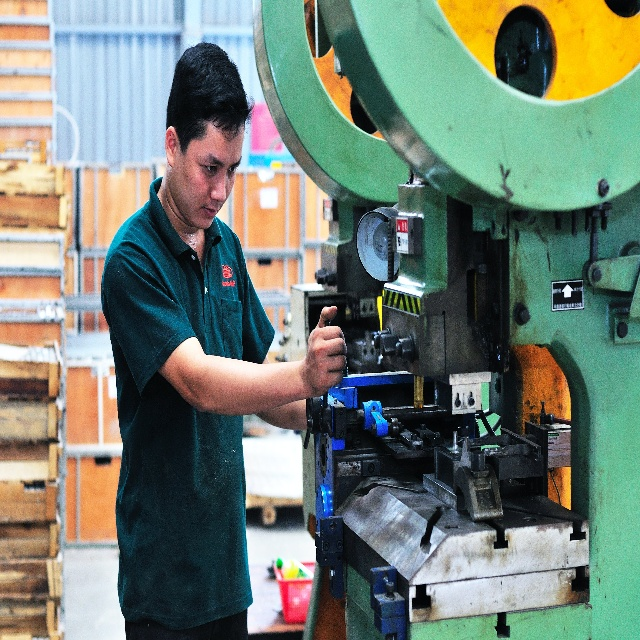Sin_guantes: (303, 305, 348, 397)
